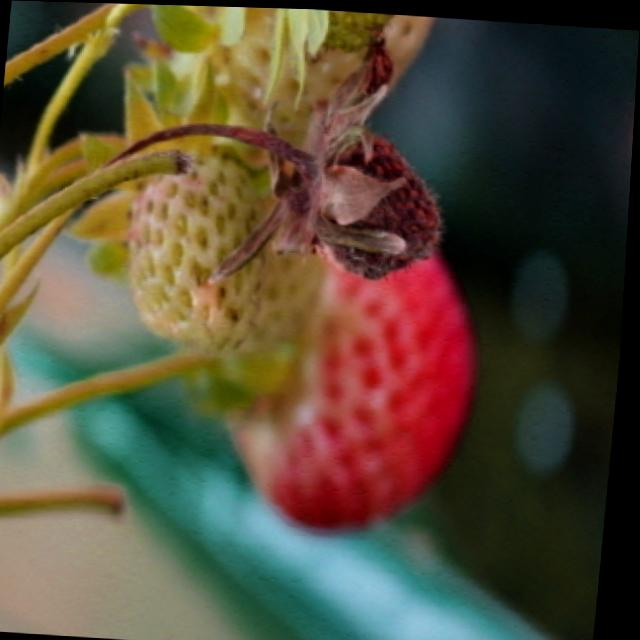Gray Mold: (217, 58, 448, 280)
